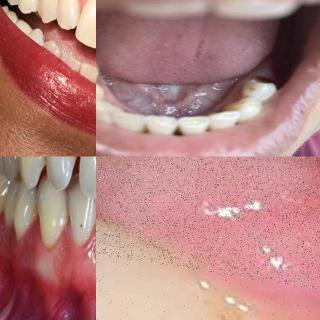Gum Swelling: (96, 156, 320, 320)
